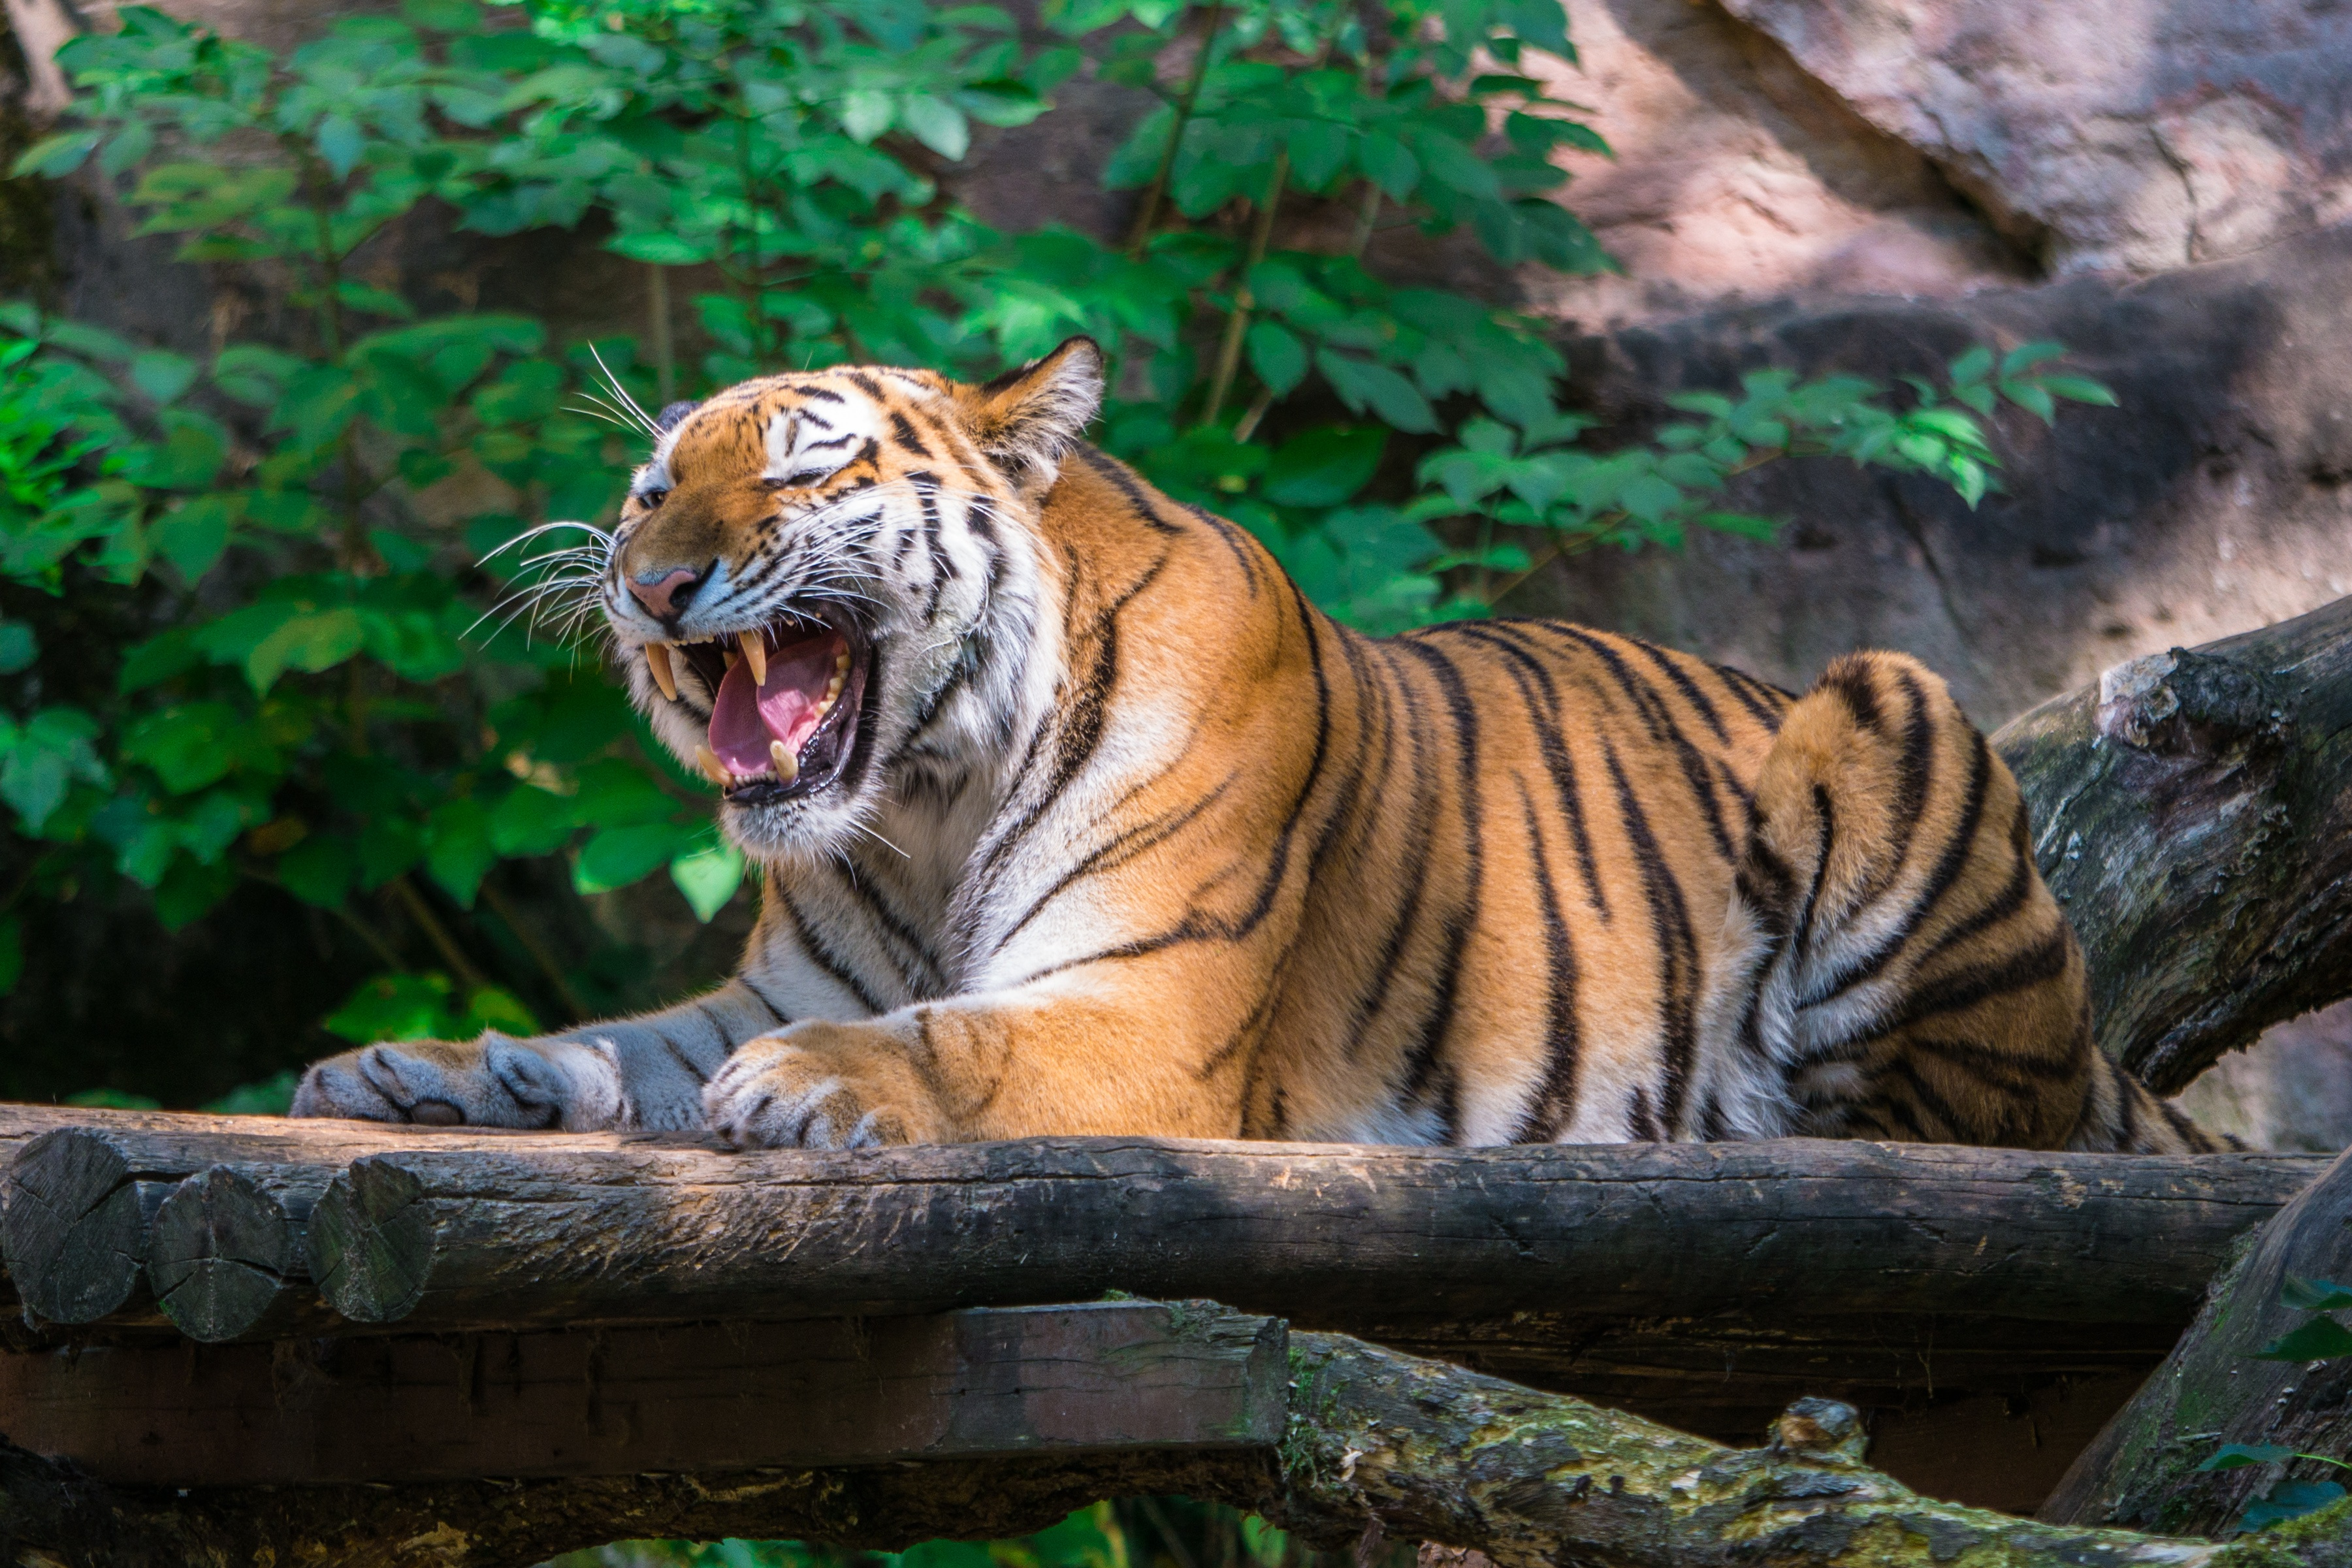tiger: (418, 346, 2149, 1232)
